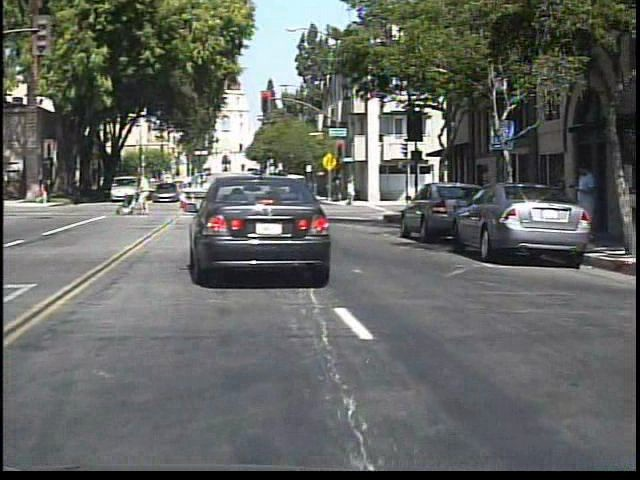person: (574, 156, 604, 253), (140, 170, 162, 217), (35, 174, 53, 208), (93, 174, 94, 205)
